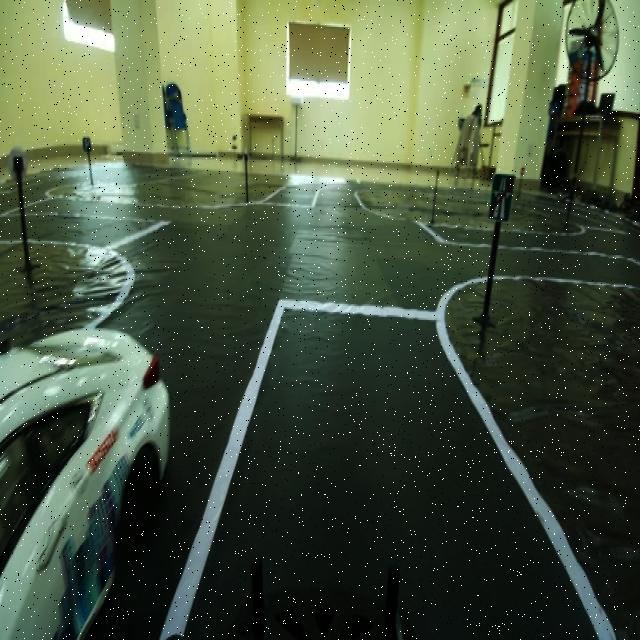car: (3, 307, 173, 640)
highway_exit: (491, 155, 519, 246)
